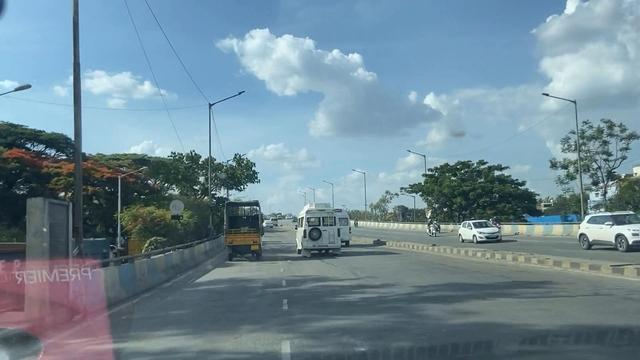HMV: (294, 202, 338, 256), (225, 201, 258, 258)
